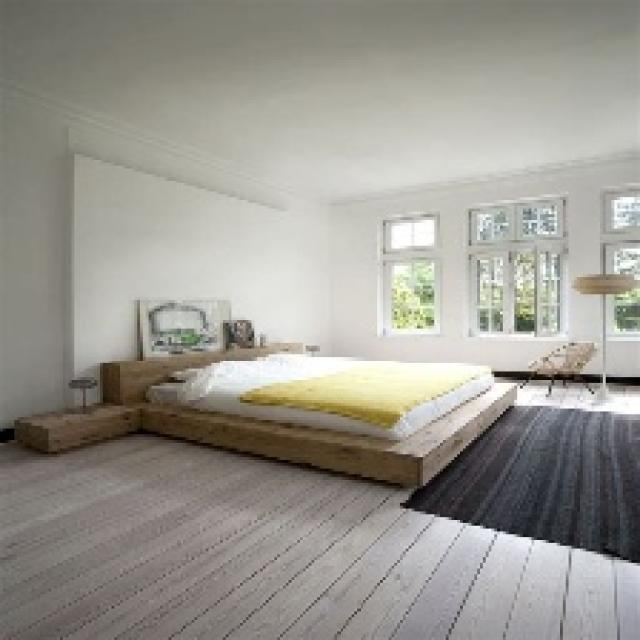Bed: (100, 346, 517, 488)
